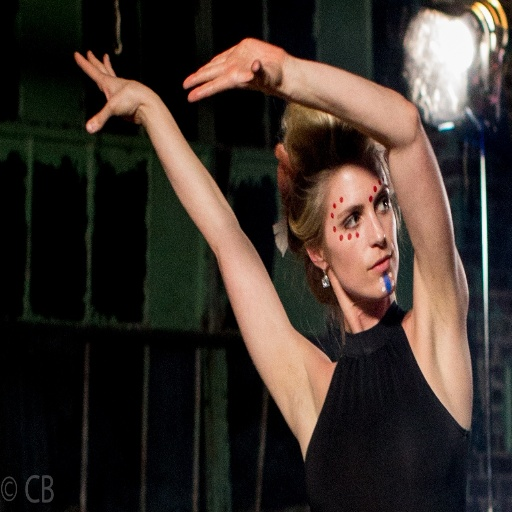hand: (70, 49, 174, 138), (181, 37, 290, 105)
